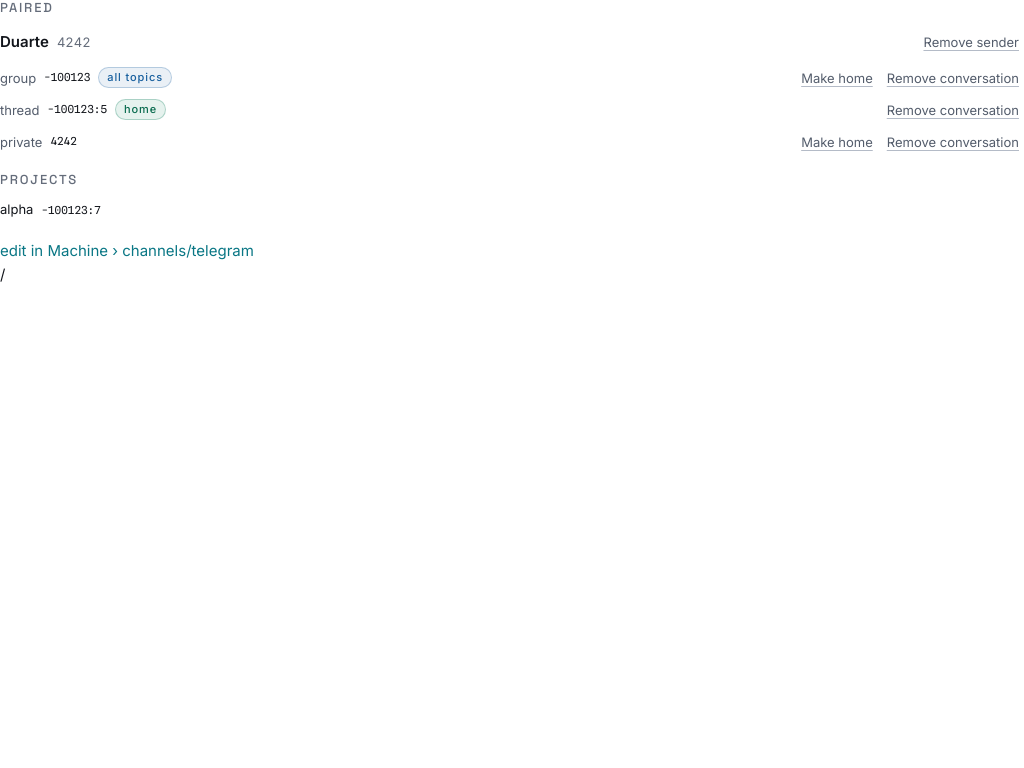
IdentitiesPanel › actions › warns of no owner when the last sender is removed
Expected: the text "Duarte" is shown, [0,30,49,53]
Step 1. Click the button "Remove sender" → (971, 42), box [918,28,1023,56]
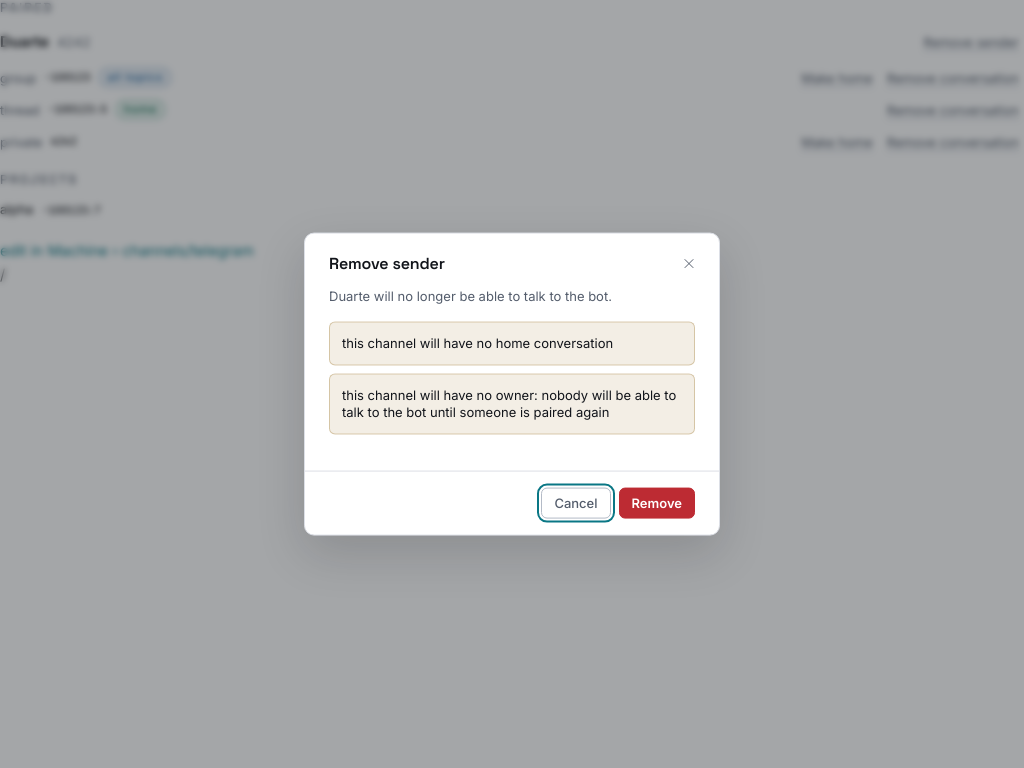
Result: the text "this channel will have no owner: nobody will be able to talk to the bot until someone is paired again" is shown at [342,386,676,420]
Result: the text "this channel will have no home conversation" is shown at [342,335,613,351]
